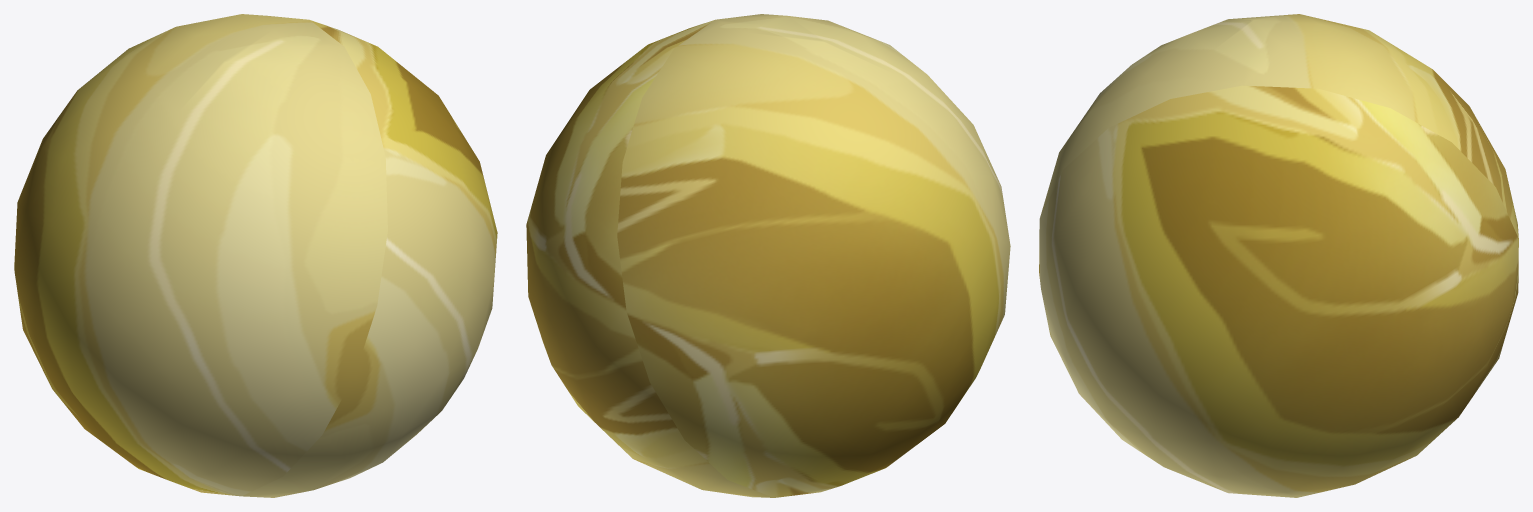
File: Ball.glb
The picture shows the model from 3 angles, left to right: view 1: azimuth 30°, elevation 25°; view 2: azimuth 150°, elevation 25°; view 3: azimuth 270°, elevation 25°; orthographic projection.
Visible parts, largest first — view 1: danhengpt_00_skill_ball_LOD0; view 2: danhengpt_00_skill_ball_LOD0; view 3: danhengpt_00_skill_ball_LOD0.
Boxes of the visible parts, x1,y1,x2,y2 form: danhengpt_00_skill_ball_LOD0: [14, 14, 497, 497]; danhengpt_00_skill_ball_LOD0: [526, 14, 1010, 497]; danhengpt_00_skill_ball_LOD0: [1039, 14, 1518, 497].
Size of the model in its own units: 0.0762 by 0.0763 by 0.0758.
Materials: 1 (1 with a texture image).
